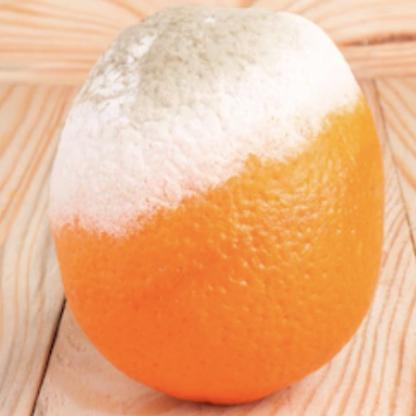rotten: (49, 12, 387, 407)
